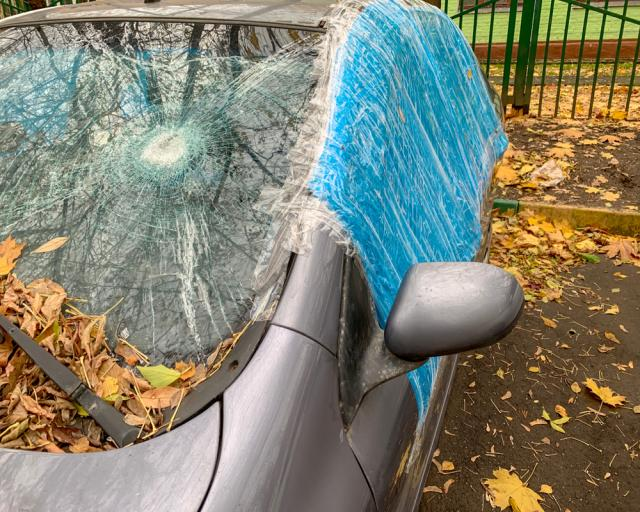glass shatter: (0, 21, 328, 364)
